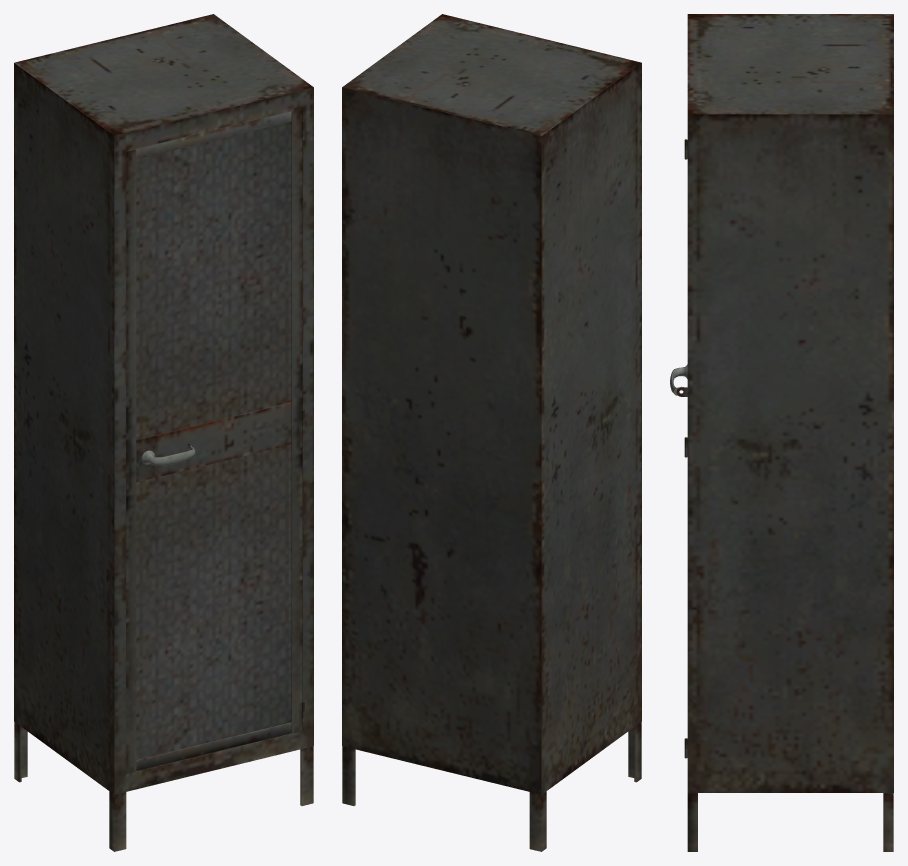
Rendered from 055_locker01a.fbx.
The picture shows the model from 3 angles, left to right: view 1: azimuth 30°, elevation 25°; view 2: azimuth 150°, elevation 25°; view 3: azimuth 270°, elevation 25°; orthographic projection. The views are drawn at different scales.
Visible parts, largest first — view 1: LOD_1_Group_5_Sub_1__sm30_055_Locker01A_A_Mat, LOD_1_Group_2_Sub_1__sm30_055_Locker01A_A_Mat, LOD_1_Group_1_Sub_1__sm30_055_Locker01A_A_Mat, LOD_1_Group_4_Sub_1__sm30_055_Locker01A_A_Mat, LOD_1_Group_0_Sub_1__sm30_055_Locker01A_A_Mat; view 2: LOD_1_Group_5_Sub_1__sm30_055_Locker01A_A_Mat, LOD_1_Group_4_Sub_1__sm30_055_Locker01A_A_Mat; view 3: LOD_1_Group_5_Sub_1__sm30_055_Locker01A_A_Mat, LOD_1_Group_4_Sub_1__sm30_055_Locker01A_A_Mat, LOD_1_Group_0_Sub_1__sm30_055_Locker01A_A_Mat.
Boxes of the visible parts, x1,y1,x2,y2 form: LOD_1_Group_5_Sub_1__sm30_055_Locker01A_A_Mat: (14, 14, 313, 794); LOD_1_Group_2_Sub_1__sm30_055_Locker01A_A_Mat: (136, 121, 291, 759); LOD_1_Group_1_Sub_1__sm30_055_Locker01A_A_Mat: (126, 108, 302, 774); LOD_1_Group_4_Sub_1__sm30_055_Locker01A_A_Mat: (14, 722, 313, 851); LOD_1_Group_0_Sub_1__sm30_055_Locker01A_A_Mat: (141, 120, 304, 721); LOD_1_Group_5_Sub_1__sm30_055_Locker01A_A_Mat: (342, 14, 641, 794); LOD_1_Group_4_Sub_1__sm30_055_Locker01A_A_Mat: (342, 722, 641, 851); LOD_1_Group_5_Sub_1__sm30_055_Locker01A_A_Mat: (687, 14, 893, 792); LOD_1_Group_4_Sub_1__sm30_055_Locker01A_A_Mat: (687, 793, 893, 851); LOD_1_Group_0_Sub_1__sm30_055_Locker01A_A_Mat: (670, 139, 687, 758).
Size of the model in its own units: 0.7294 by 2.5 by 0.6877.
